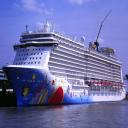cruises: (3, 18, 127, 107)
